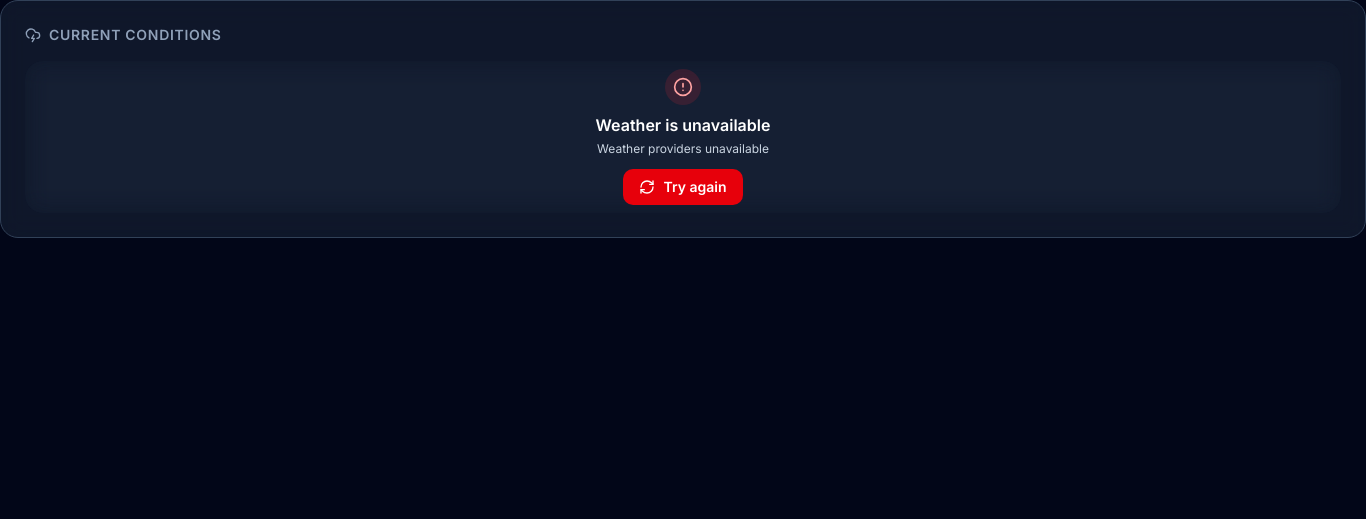
WeatherCard › shows an ErrorState with a working retry
Expected: the heading "Weather is unavailable" is shown, [596,113,770,137]
Expected: the text "Weather providers unavailable" is shown, [596,141,770,157]
Click the button "Try again" at x=683, y=187, box [624,169,743,205]
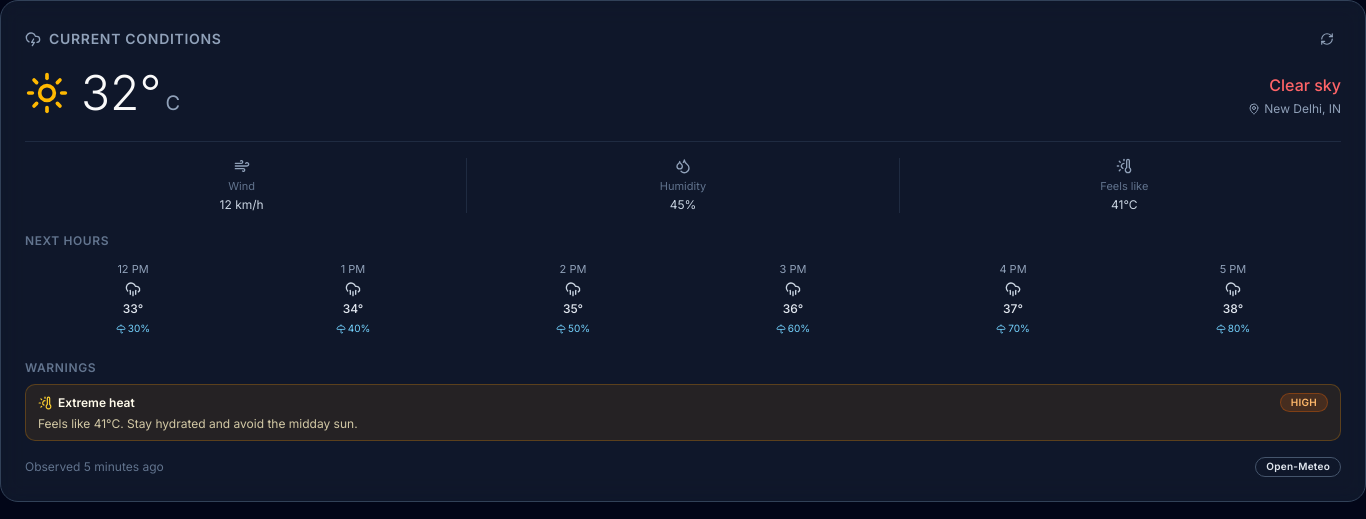
Expected: the text "clear sky" is shown, [1269,75,1341,95]
